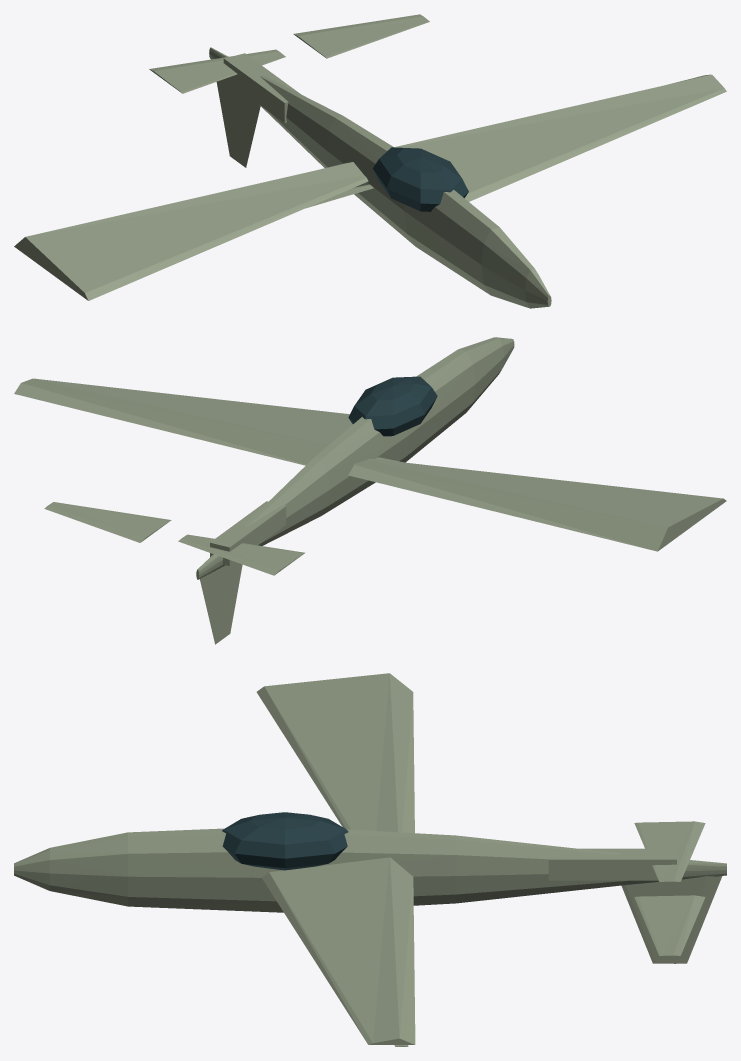
3 views of the same model, one above another, from view 1: azimuth 30°, elevation 25°; view 2: azimuth 150°, elevation 25°; view 3: azimuth 270°, elevation 25° (orthographic). The views are drawn at different scales.
Visible parts, largest first — view 1: Wing_L, Fuselage, Wing_R, Cockpit, Elevator_R, Rudder, TailBoom, Elevator_L; view 2: Wing_L, Fuselage, Wing_R, Cockpit, Elevator_R, Rudder, Elevator_L, TailBoom; view 3: Fuselage, Wing_R, Wing_L, Cockpit, TailBoom, Rudder, Elevator_R, Elevator_L.
Boxes of the visible parts, x1=… form: Wing_L: x1=14, y1=162, x2=368, y2=300; Fuselage: x1=209, y1=47, x2=551, y2=308; Wing_R: x1=394, y1=74, x2=726, y2=201; Cockpit: x1=373, y1=147, x2=468, y2=211; Elevator_R: x1=293, y1=14, x2=429, y2=58; Rudder: x1=216, y1=79, x2=260, y2=167; TailBoom: x1=223, y1=53, x2=300, y2=122; Elevator_L: x1=149, y1=49, x2=285, y2=93; Wing_L: x1=348, y1=458, x2=726, y2=551; Fuselage: x1=196, y1=337, x2=514, y2=579; Wing_R: x1=14, y1=378, x2=352, y2=465; Cockpit: x1=348, y1=376, x2=437, y2=436; Elevator_R: x1=44, y1=502, x2=171, y2=542; Rudder: x1=200, y1=562, x2=242, y2=644; Elevator_L: x1=178, y1=534, x2=305, y2=575; TailBoom: x1=210, y1=501, x2=286, y2=565; Fuselage: x1=14, y1=828, x2=726, y2=912; Wing_R: x1=262, y1=857, x2=415, y2=1044; Wing_L: x1=256, y1=673, x2=414, y2=833; Cockpit: x1=222, y1=812, x2=348, y2=870; TailBoom: x1=548, y1=848, x2=676, y2=880; Rudder: x1=621, y1=876, x2=722, y2=963; Elevator_R: x1=634, y1=895, x2=705, y2=955; Elevator_L: x1=634, y1=821, x2=705, y2=881.
Size of the model in its own units: 20.74 by 3.97 by 17.6.
